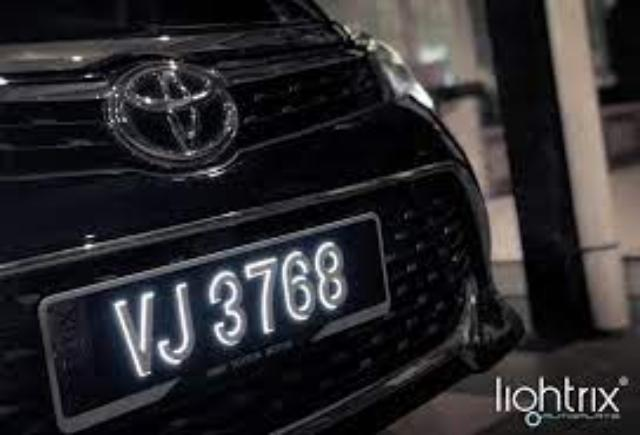License_Plate: (43, 204, 385, 435)
